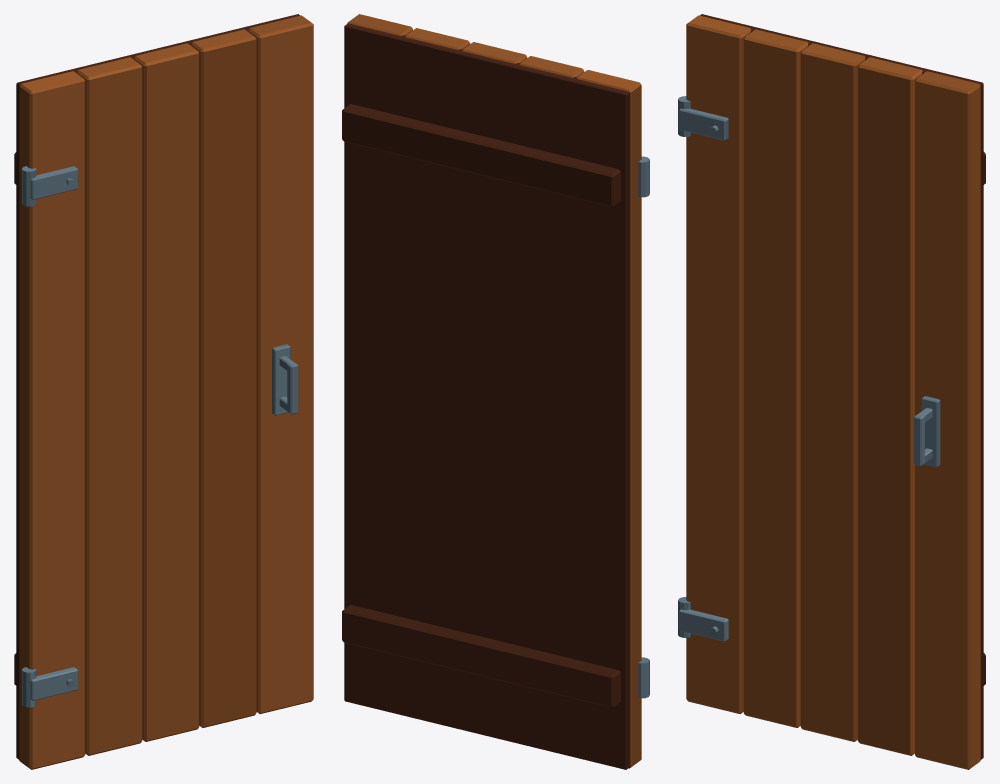
Rendered from QH_Door_Timber.fbx.
The picture shows the model from 3 angles, left to right: view 1: azimuth 30°, elevation 25°; view 2: azimuth 150°, elevation 25°; view 3: azimuth 330°, elevation 25°; orthographic projection.
Visible parts, largest first — view 1: QH_Door_Timber; view 2: QH_Door_Timber; view 3: QH_Door_Timber.
Boxes of the visible parts, x1,y1,x2,y2 form: QH_Door_Timber: (14, 14, 313, 769); QH_Door_Timber: (342, 14, 649, 769); QH_Door_Timber: (678, 14, 985, 769).
Bounding box in the file's own units: 0.873 × 1.95 × 0.2065.
